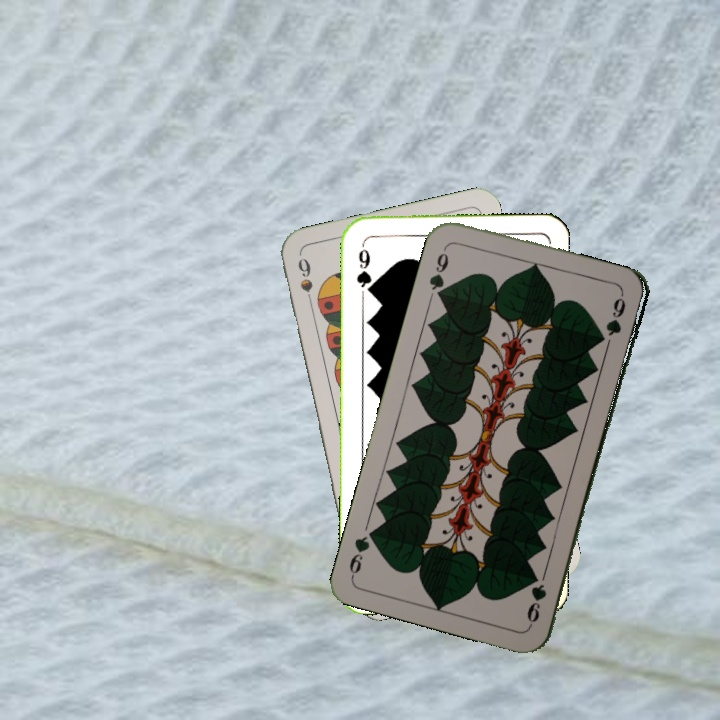G9: (425, 242, 451, 302), (352, 239, 374, 297), (523, 580, 549, 629)
S9: (293, 253, 316, 312)
